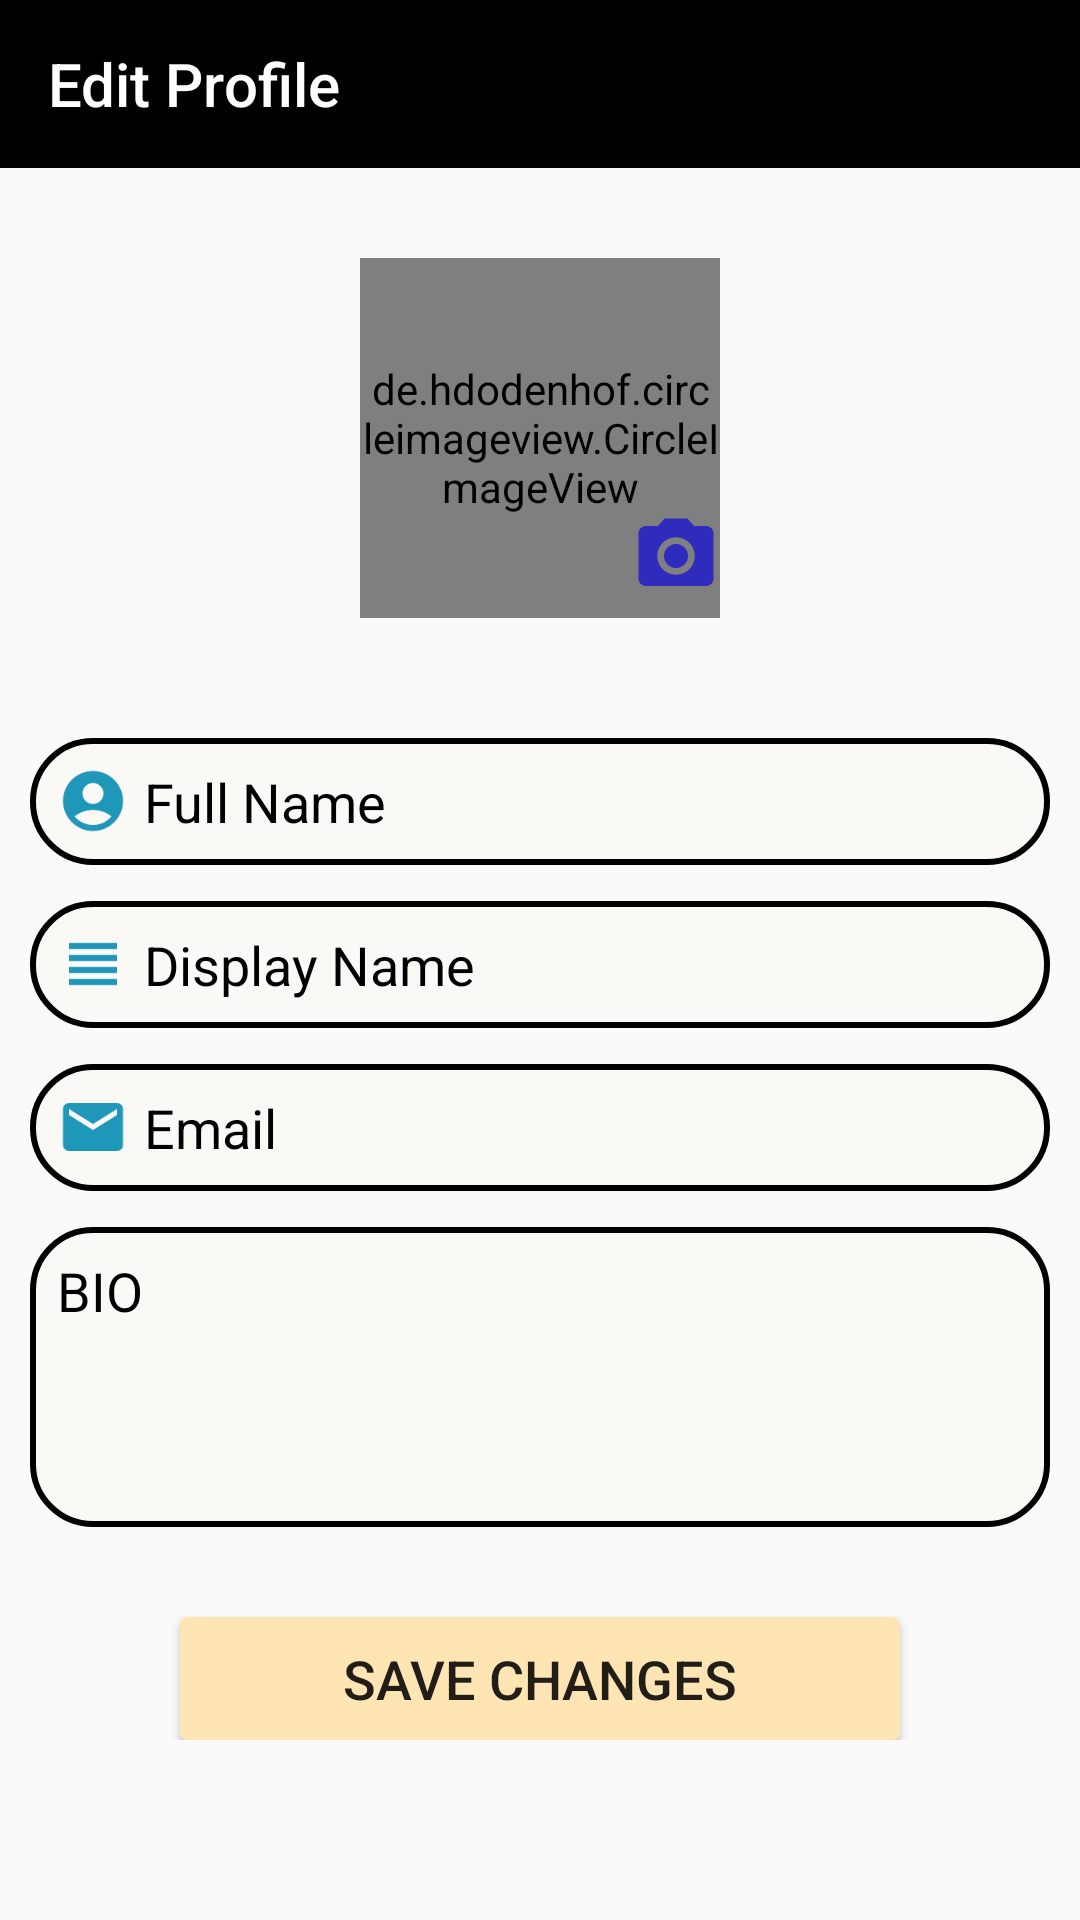

Named icons in this screenshot (1080 x 1920) and their centers, [x,y]:
camera: [676,552]
